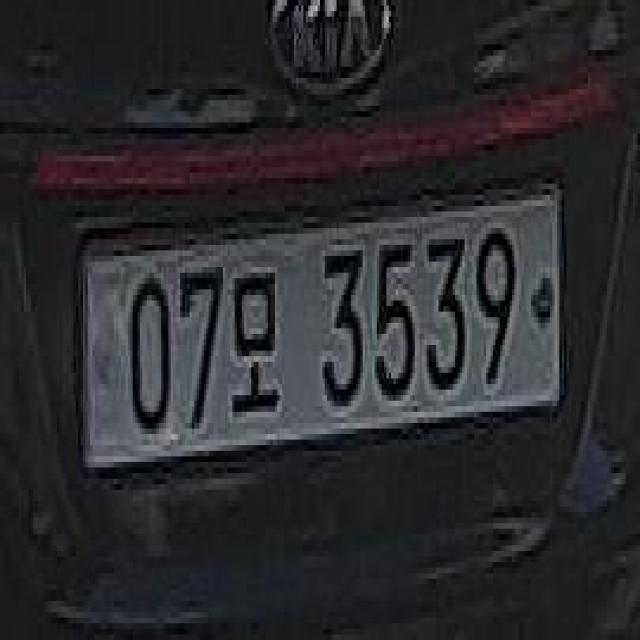illegal_plate: (80, 172, 568, 478)
